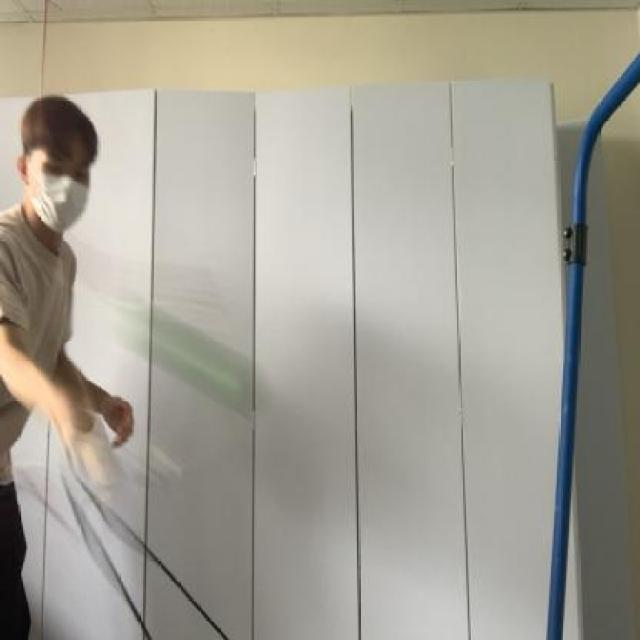baseball: (89, 272, 285, 428)
